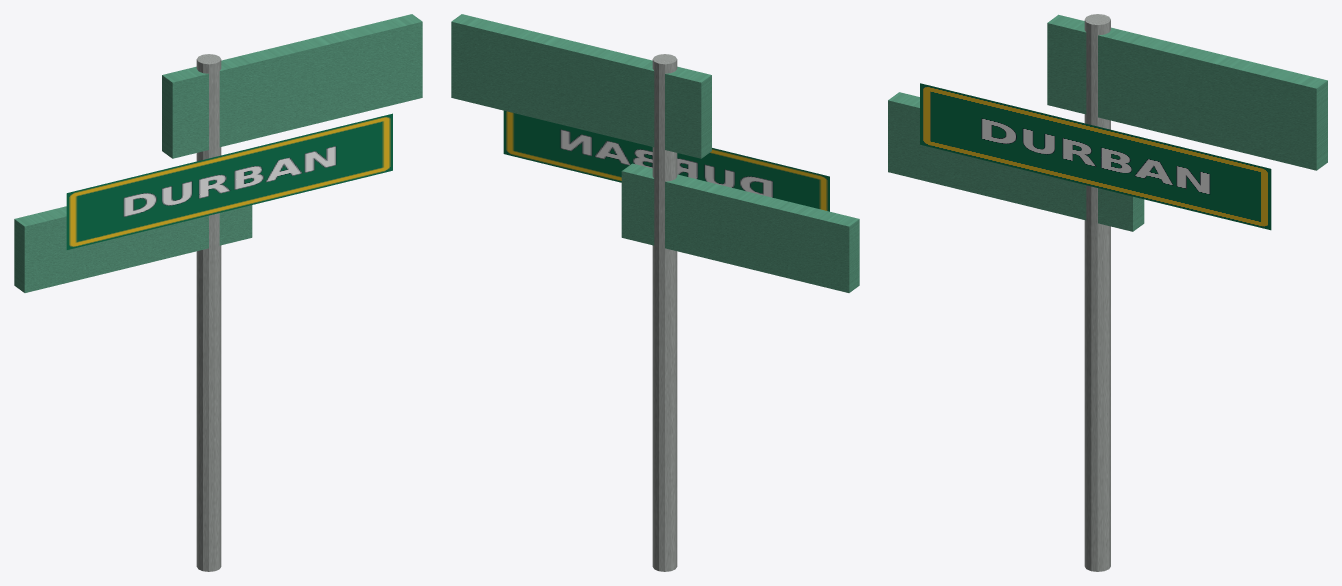
Rendered from durban_sign.glb.
The picture shows the model from 3 angles, left to right: view 1: azimuth 30°, elevation 25°; view 2: azimuth 150°, elevation 25°; view 3: azimuth 330°, elevation 25°; orthographic projection. The views are drawn at different scales.
Visible parts, largest first — view 1: world, D0_durban_sign_text_decal; view 2: world, D0_durban_sign_text_decal; view 3: world, D0_durban_sign_text_decal.
Boxes of the visible parts, box(x1,y1,x2,y2) form: world: box(14, 14, 422, 571); D0_durban_sign_text_decal: box(66, 113, 392, 249); world: box(451, 14, 859, 571); D0_durban_sign_text_decal: box(503, 110, 829, 211); world: box(888, 14, 1327, 571); D0_durban_sign_text_decal: box(920, 83, 1271, 230).
Bounding box in the file's own units: 2.62 × 3.2 × 0.2.
4 materials, 4 textured.
